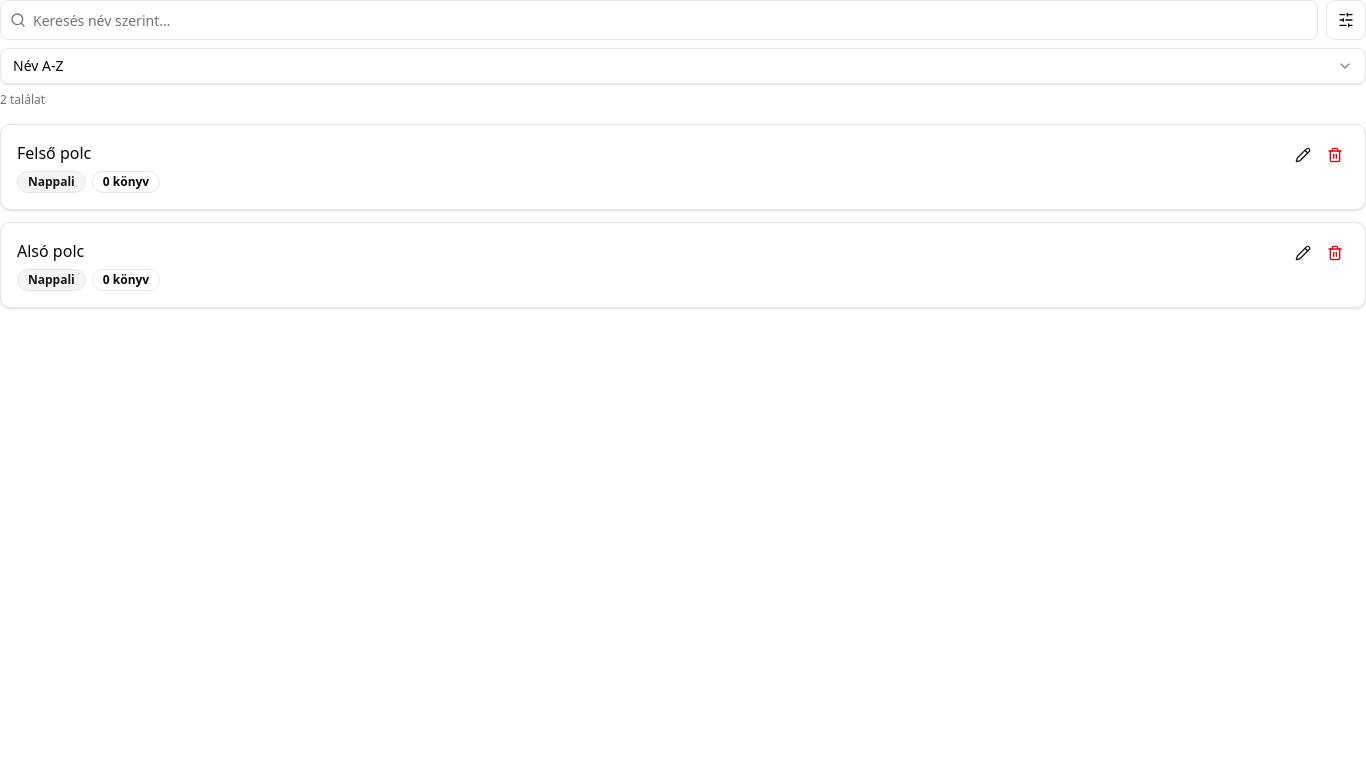
Scenario: LocationCardView — mutation refresh strategy › removes the deleted card from the list, without refetching
The width and height of the screenshot is (1366, 768).
Expected: the text "Felső polc" is shown, [17,142,91,164]
Click the button named "Törlés" in the row of "Felső polc".
click(1335, 155)  # box [1321,141,1349,169]
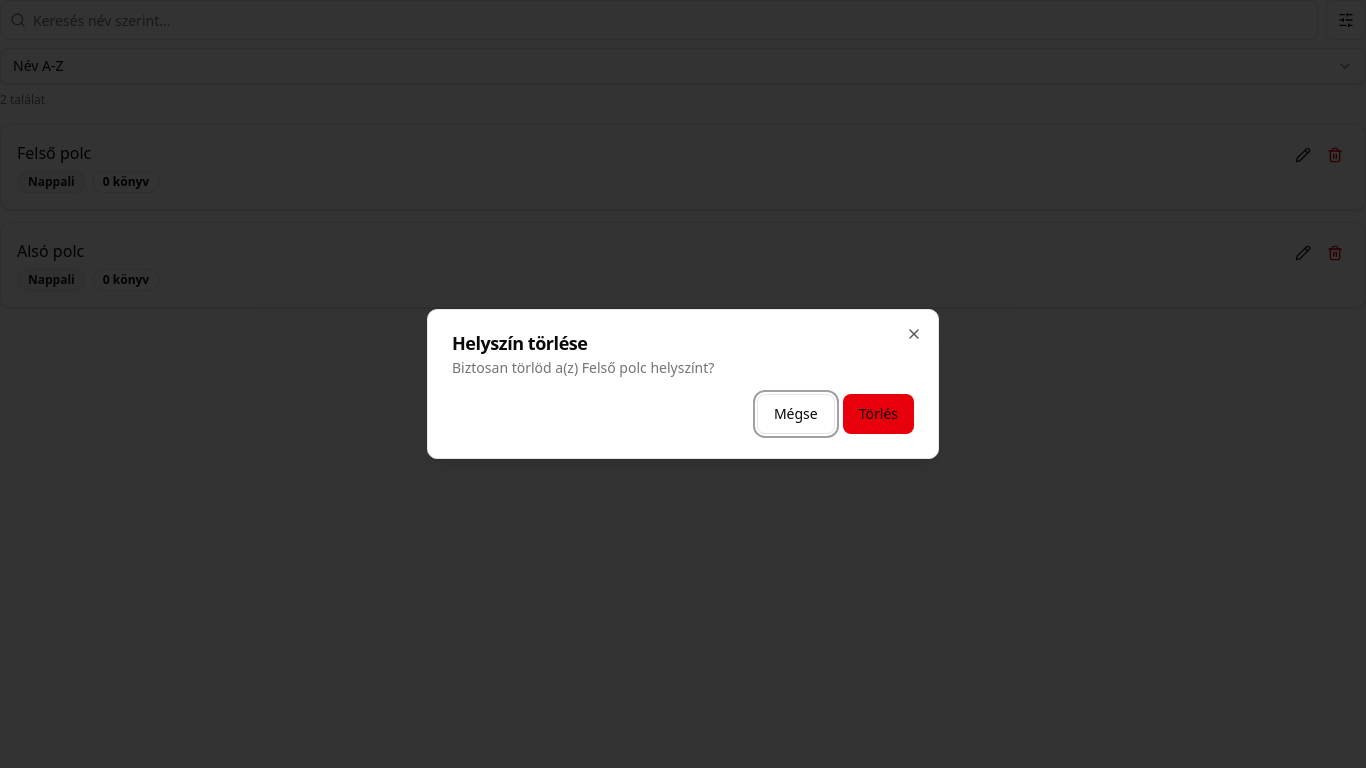
Click the button "Törlés".
click(878, 414)  # box [843,394,914,434]
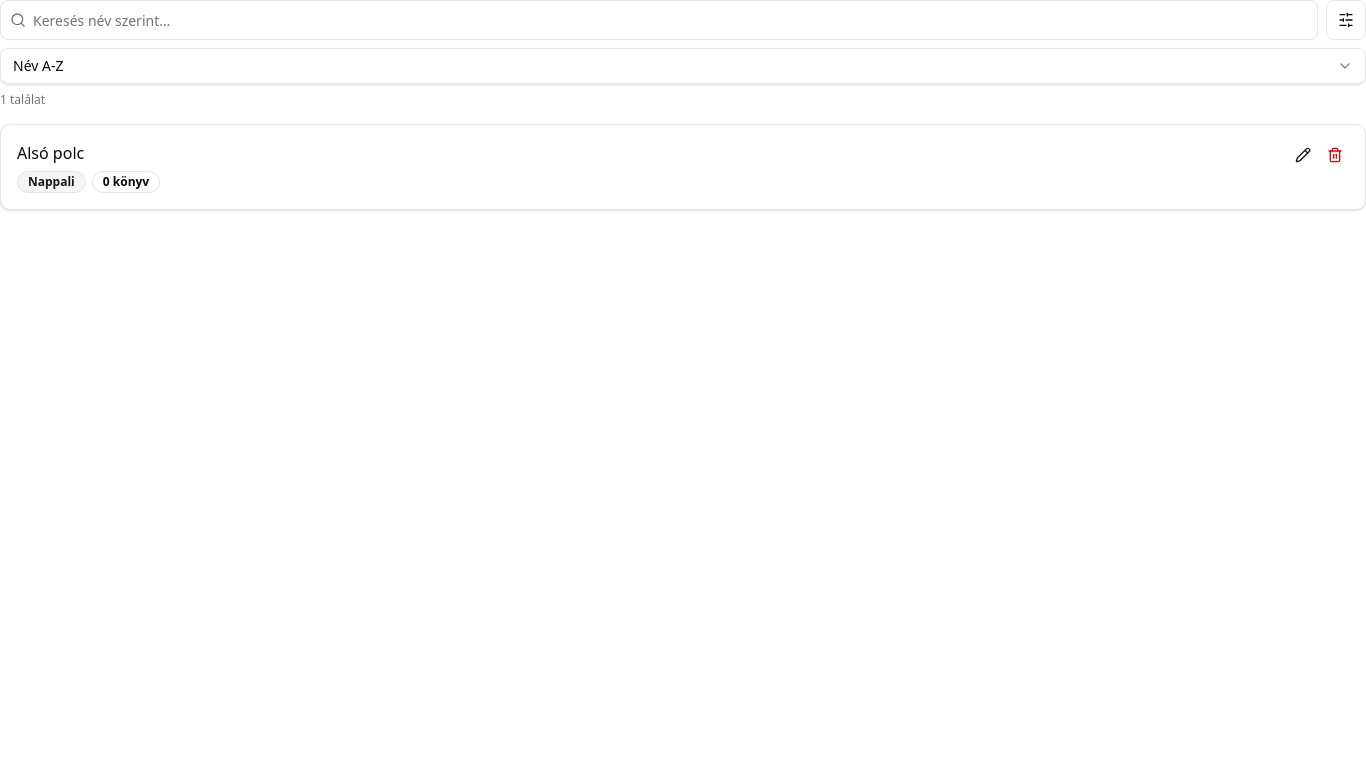
Expected: the text "Alsó polc" is shown, [17,142,84,164]
Now the text "Felső polc" is gone
Now the number of elements with test id "location-card" is 1, box [0,124,1365,210]
